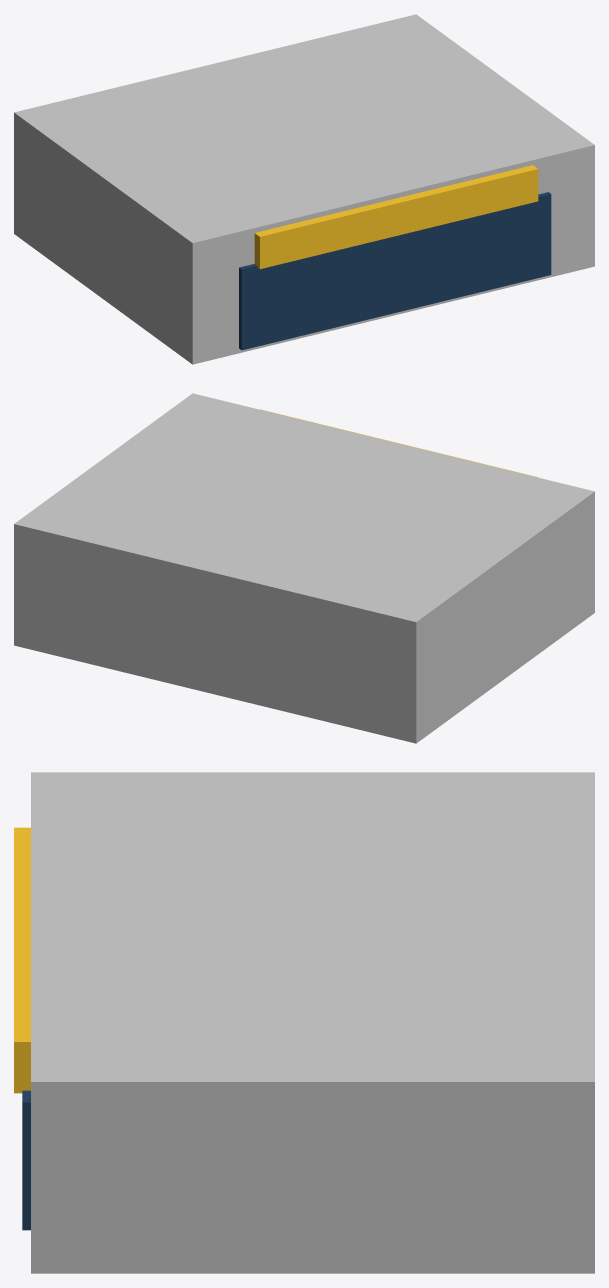
File: store_01.glb
3 views of the same model, one above another, from view 1: azimuth 30°, elevation 25°; view 2: azimuth 150°, elevation 25°; view 3: azimuth 270°, elevation 25° (orthographic). The views are drawn at different scales.
Size of the model in its own units: 26 by 7.5 by 20.6.
